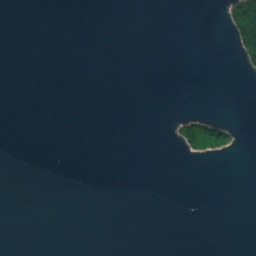Marine Debris: (191, 209, 194, 211)
